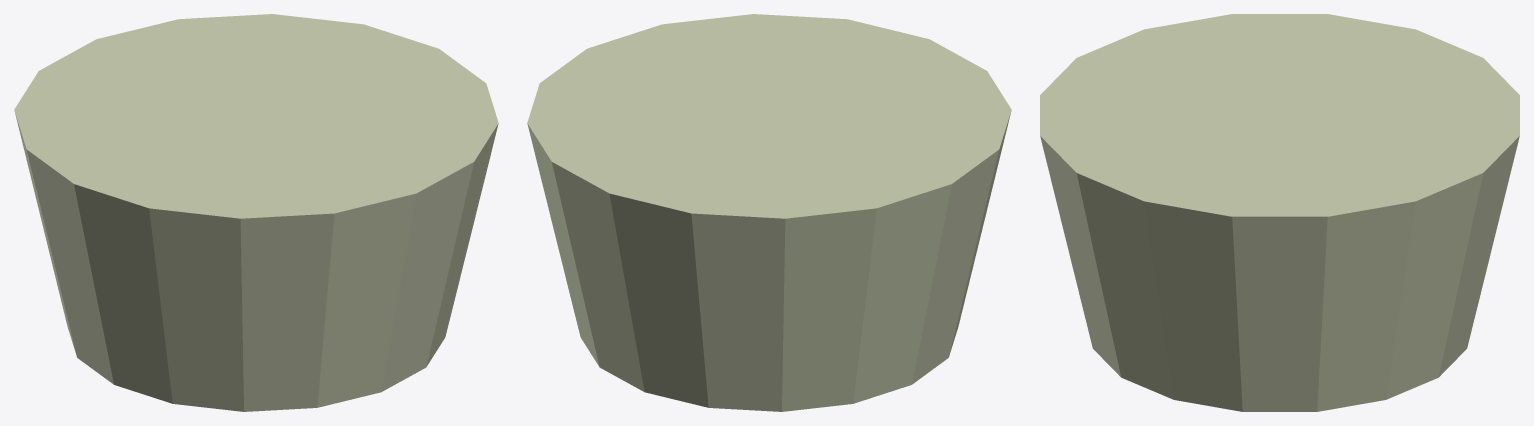
Rendered from ALV_2_Engine_1_Collider.obj.
The picture shows the model from 3 angles, left to right: view 1: azimuth 30°, elevation 25°; view 2: azimuth 150°, elevation 25°; view 3: azimuth 270°, elevation 25°; orthographic projection.
Parts seen in each view (by area): view 1: ALV_2_Engine_1_Collider; view 2: ALV_2_Engine_1_Collider; view 3: ALV_2_Engine_1_Collider.
Part boxes in pixels (x1=…): ALV_2_Engine_1_Collider: x1=14, y1=14, x2=498, y2=411; ALV_2_Engine_1_Collider: x1=527, y1=14, x2=1011, y2=411; ALV_2_Engine_1_Collider: x1=1040, y1=14, x2=1519, y2=411.
Size of the model in its own units: 2.5 by 1.25 by 2.5.
